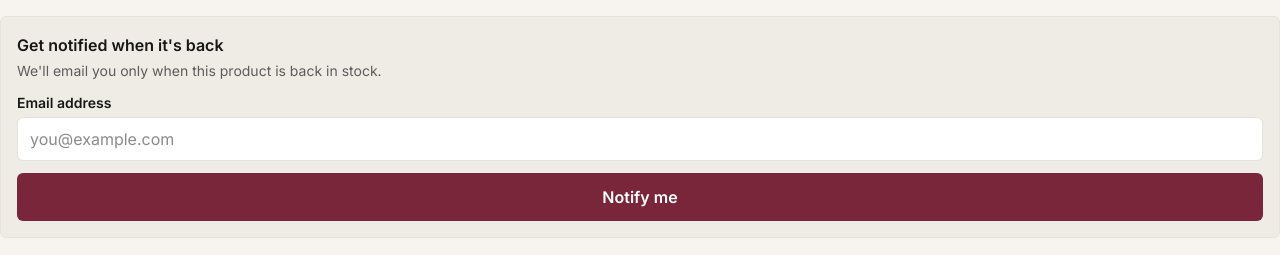
it: StockAlertForm › shows the subscribed state on success and hides the form
The image size is (1280, 255).
Type "customer@example.com" into the field named "Email address for stock alerts on SAMPLE Futuristic A". click: (640, 139)
box: [17,117,1263,161]
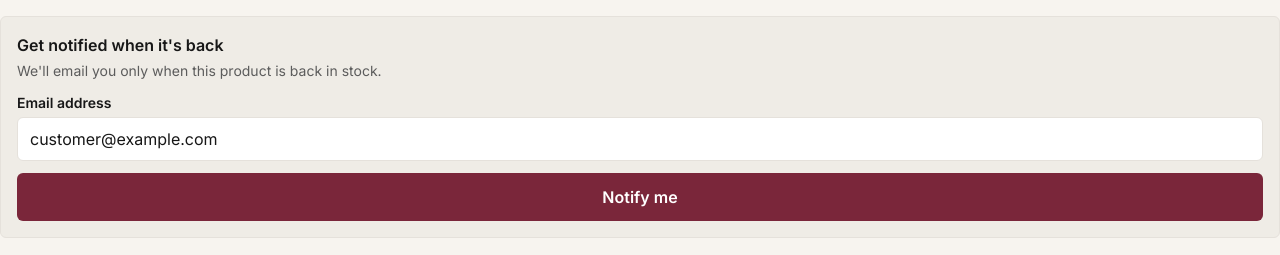
Click the button "Notify me". click: (640, 197)
box: [17,173,1263,221]
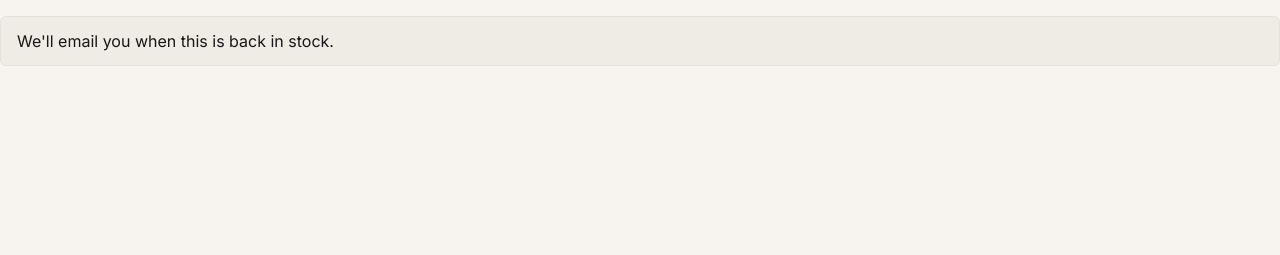
Expected: the message reads "We'll email you when this is back in stock.", [17,31,334,51]
Expected: the button "Notify me" is gone
